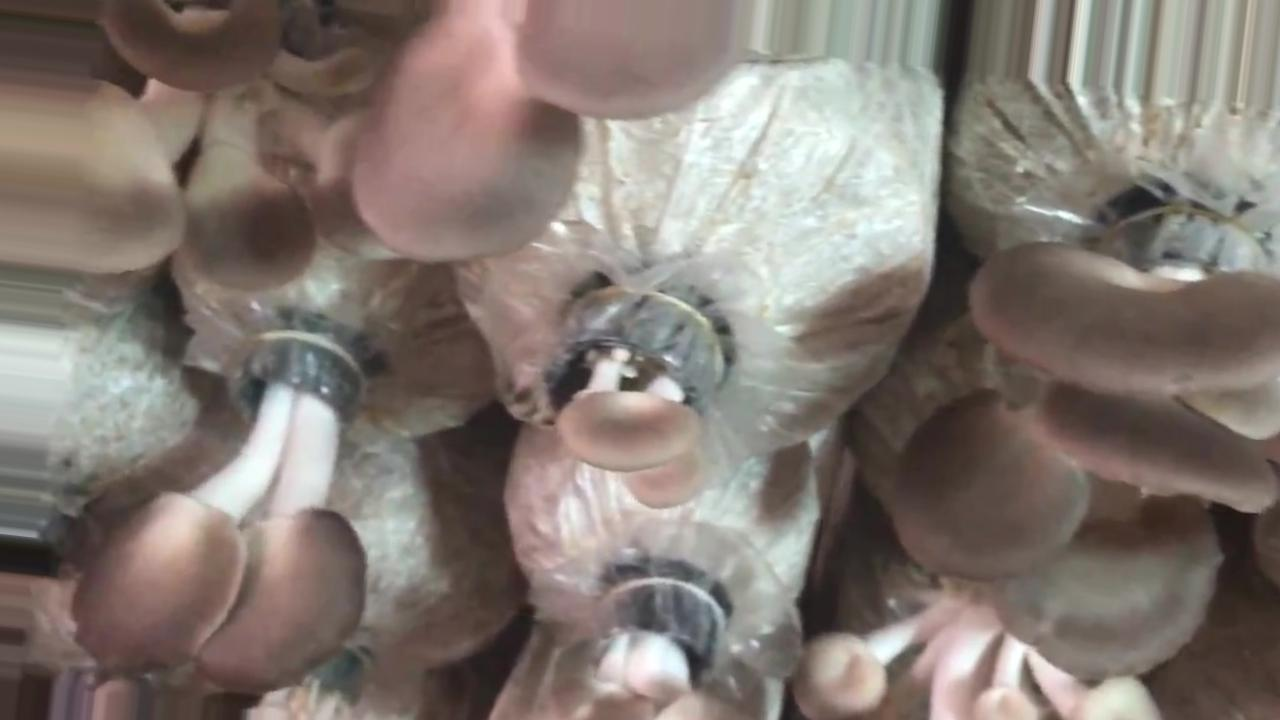nam: (1, 4, 748, 289), (892, 210, 1277, 681), (77, 337, 384, 688), (552, 300, 727, 510)
